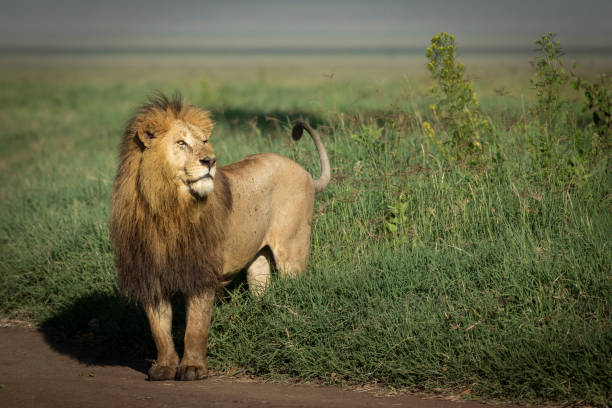lion: (97, 97, 239, 307)
